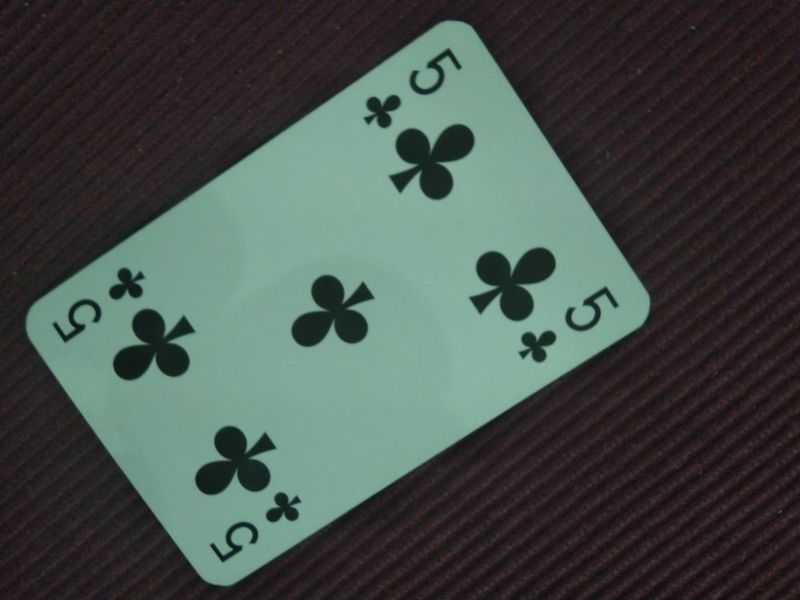5c: (359, 45, 464, 130), (515, 283, 622, 366), (49, 263, 150, 345), (207, 490, 301, 565)
